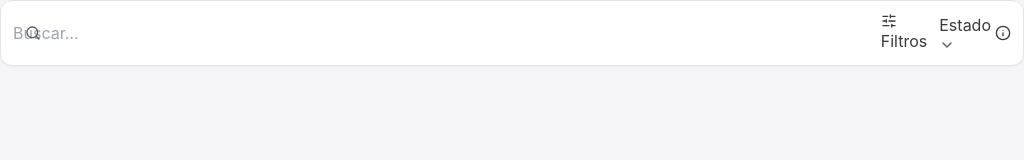
Test: FilterBar · filtros › el filtro lleva su propia ayuda, fuera del nombre accesible del control
The image size is (1024, 160).
Hover over the button named "Ayuda: Estado" at [1003, 33], box 995,25 -> 1011,41
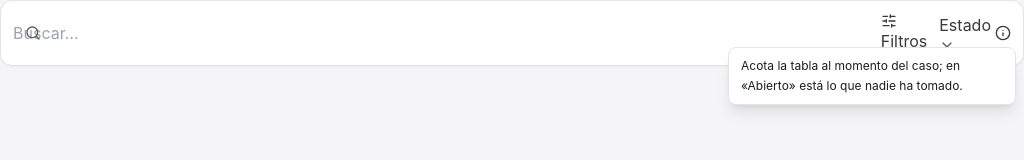
Expected: the dropdown labelled "Estado" is shown, 939,13 -> 991,53
Expected: the tooltip shows "Acota la tabla", 741,58 -> 963,93
